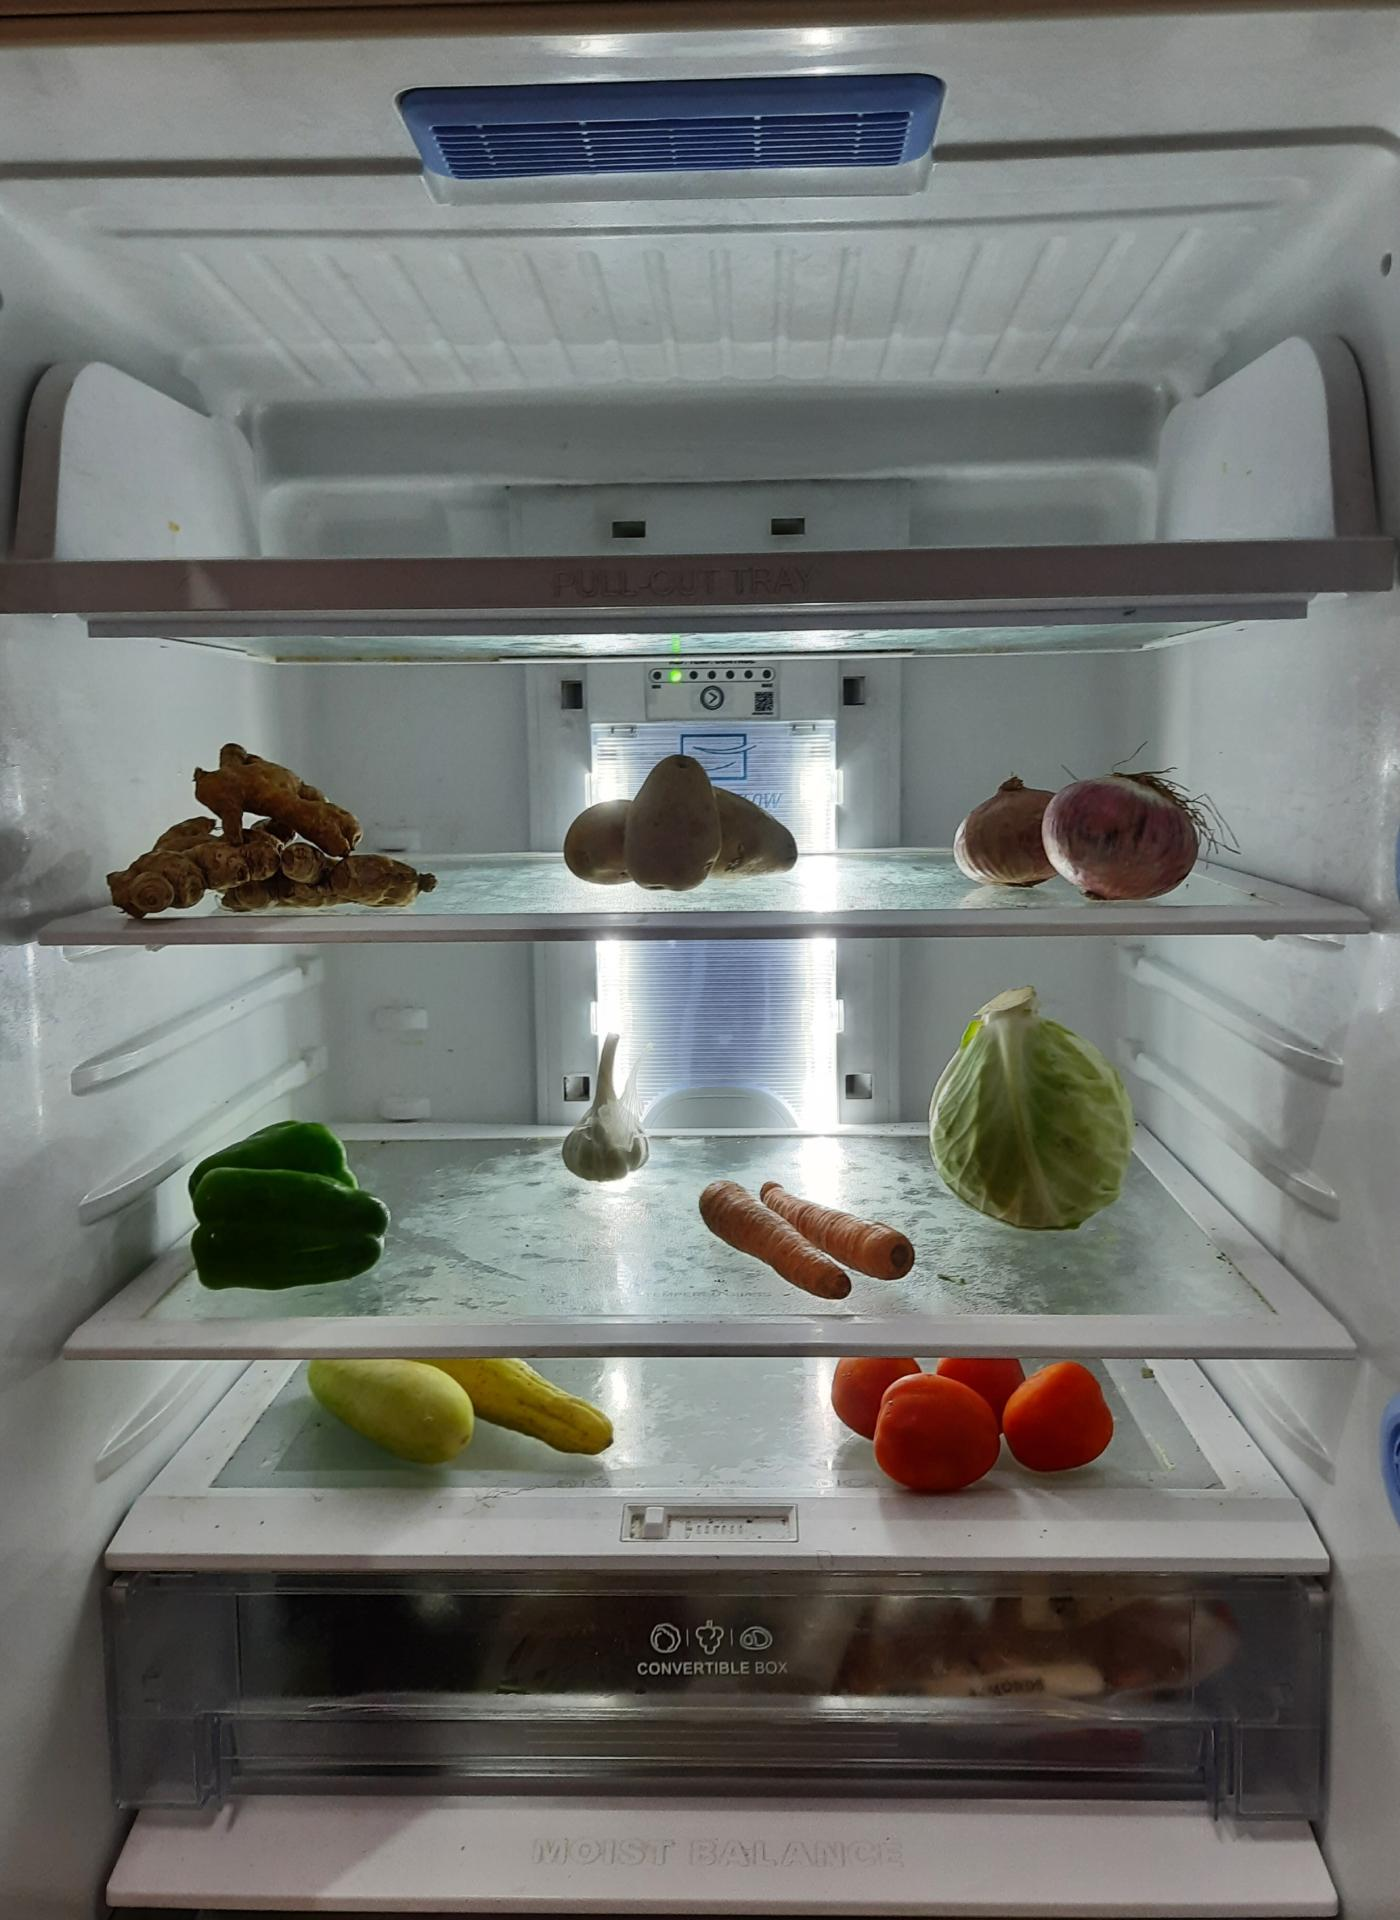cabbage: (929, 991, 1135, 1237)
capsicum: (182, 1127, 401, 1298)
carrots: (696, 1172, 924, 1310)
cucumber: (300, 1360, 623, 1473)
garlic: (562, 1027, 653, 1179)
ginger: (97, 741, 434, 918)
onion: (954, 766, 1200, 899)
potato: (553, 753, 804, 893)
tomato: (820, 1346, 1117, 1486)
